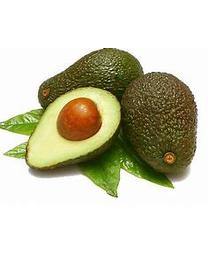avocado: (24, 86, 123, 172), (120, 71, 200, 175), (37, 47, 145, 116)
